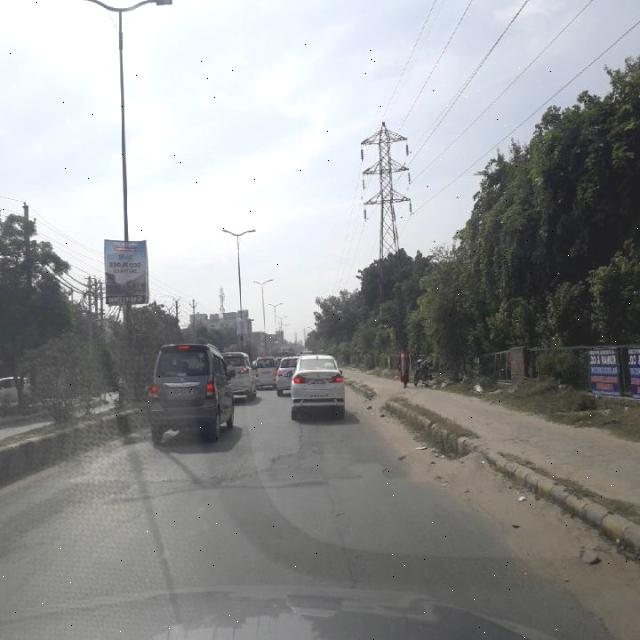D40: (378, 456, 433, 481)
